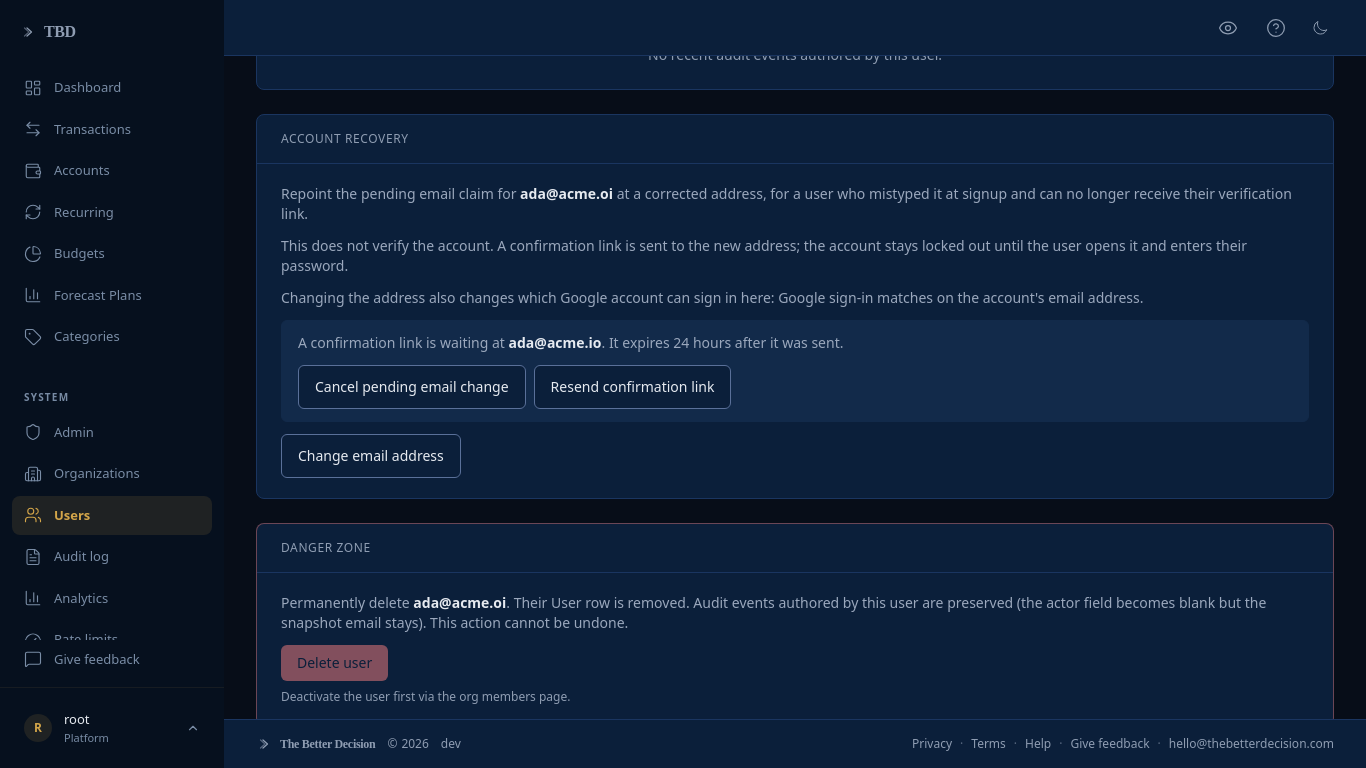
Test: TBD-362 admin email recovery UI › F14: Resend reopens the modal prefilled with the live claim
This screenshot has width=1366, height=768.
(page scrolled)
Click the button "Resend confirmation link" at (633, 387), box [534, 365, 732, 409]
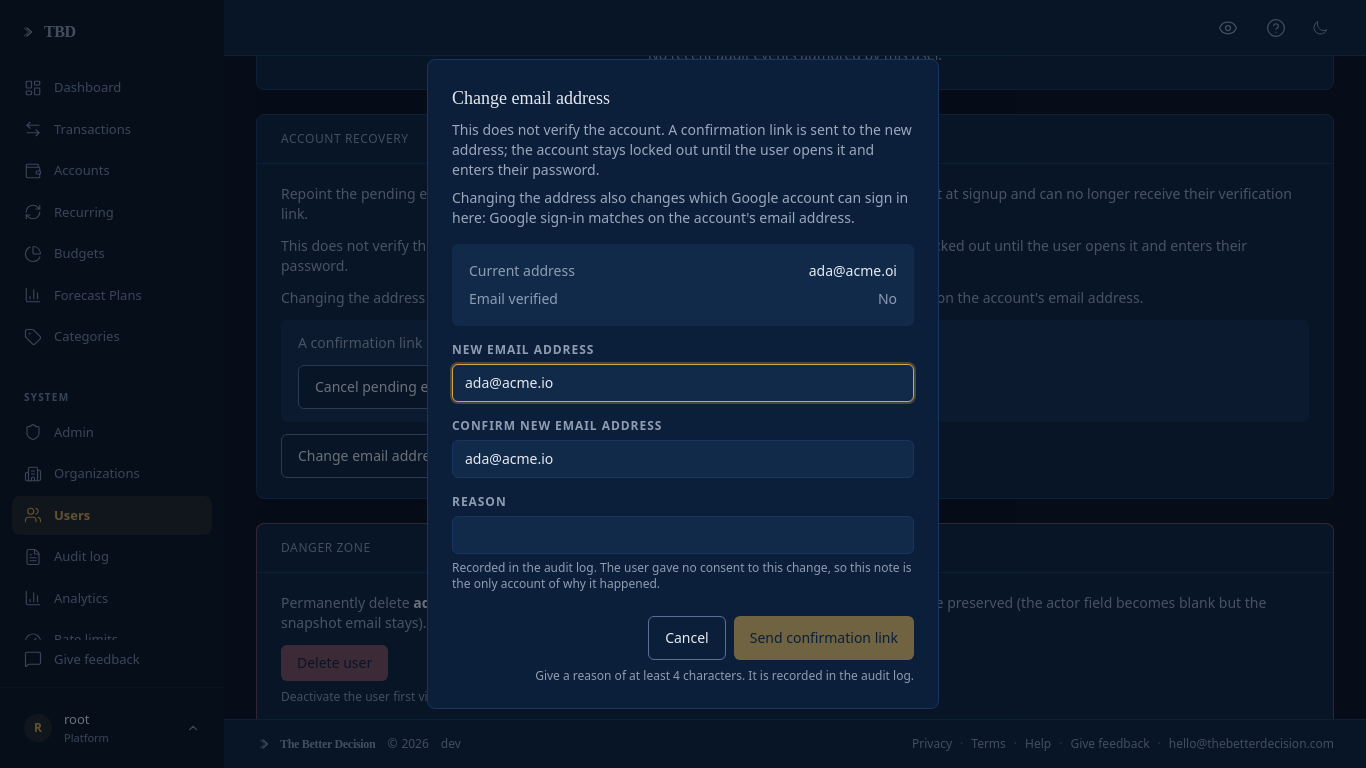
Now the field labelled "New email address" holds "ada@acme.io", box [452, 364, 914, 402]
